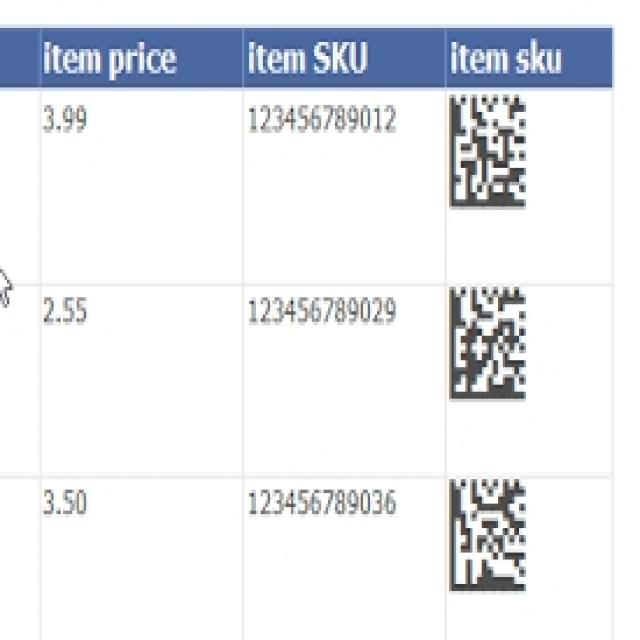DataMatrix: (445, 469, 536, 605), (447, 88, 533, 221), (447, 280, 533, 409)
